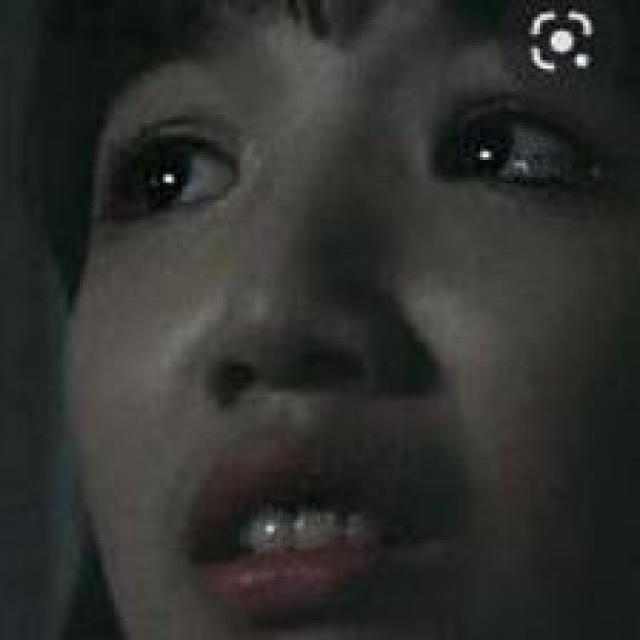fear: (92, 76, 585, 626)
